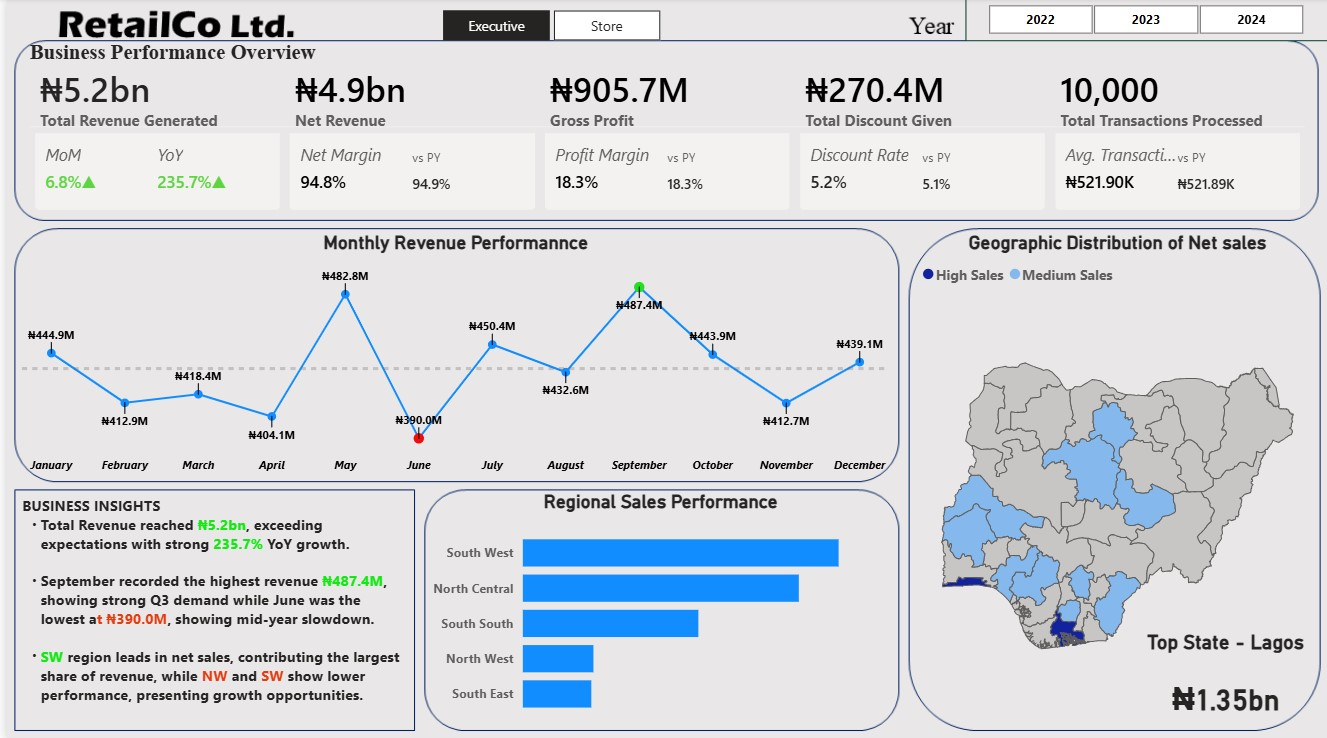

Layout of this report page (visuals, bound fields, positions):
{"tool":"powerbi","page":{"name":"Executive","canvas":[1280,720],"ordinal":0},"visuals":[{"type":"cardVisual","title":"Business Performance Overview","fields":{"Data":["Measures Table.R.Total Revenue","Measures Table.Net Revenue","Measures Table.Profit","Measures Table.Total Discount","Calendar.Total Transactions"]},"box":[16.9,41.2,1246.8,173.1],"z":0},{"type":"lineChart","title":"Monthly Revenue Performannce","fields":{"Category":["Calendar.MonthName"],"Y":["Measures Table.R.Total Revenue"]},"box":[9.7,226.4,849.8,243.3],"z":1000},{"type":"shapeMap","title":"Geographic Distribution of Net sales","fields":{"Category":["Stores.State"],"Series":["Stores.Sales Category"],"Value":["Sum(Stores.Total State Sales)"]},"box":[881.2,226.4,388.6,480.6],"z":2000},{"type":"barChart","title":"Regional Sales Performance","fields":{"Category":["Stores.Region"],"Y":["Measures Table.Net sales"]},"box":[406.7,476.9,452.7,230],"z":3000},{"type":"slicer","title":"Year","fields":{"Values":["Calendar.FiscalYear"]},"box":[925.2,0,354.6,41.7],"z":4000},{"type":"textbox","box":[9.7,476.9,381.3,230],"z":5000},{"type":"kpi","title":"Top State - Lagos","fields":{"TrendLine":["Stores.State"],"Indicator":["Measures Table.Net sales"]},"box":[1090.7,612.5,179.2,107.7],"z":6000},{"type":"pageNavigator","box":[422.5,12.1,210.6,29.1],"z":6001}]}

Visuals, with their boxes in screenshot pixels (x1, y1, x2, y2), scaled from the page's 1280x720 canvas onto the 1327x738 screenshot:
"Business Performance Overview" cardVisual: bbox=(18, 42, 1310, 220)
"Monthly Revenue Performannce" lineChart: bbox=(10, 232, 891, 481)
"Geographic Distribution of Net sales" shapeMap: bbox=(914, 232, 1316, 725)
"Regional Sales Performance" barChart: bbox=(422, 489, 891, 725)
"Year" slicer: bbox=(959, 0, 1326, 43)
textbox: bbox=(10, 489, 405, 725)
"Top State - Lagos" kpi: bbox=(1131, 628, 1317, 737)
pageNavigator: bbox=(438, 12, 656, 42)
